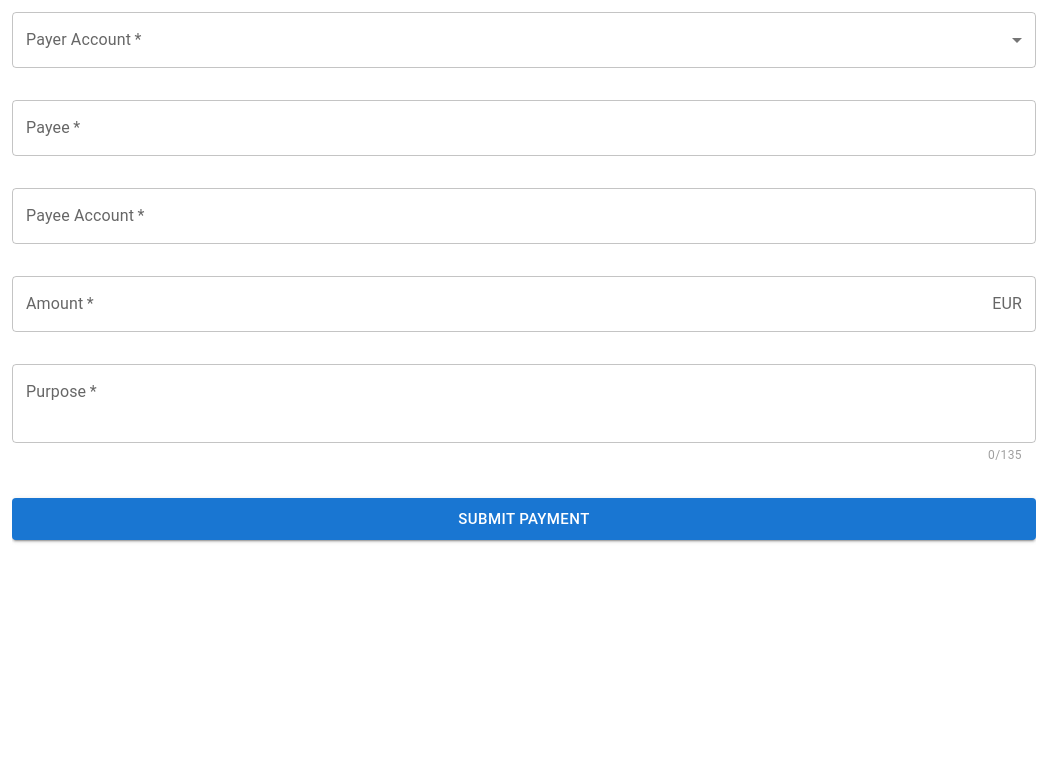
PaymentForm › displays an error when the amount exceeds the selected account balance
The image size is (1048, 780).
Click the dropdown named "payer account". click: (524, 40)
box: top-left (12, 12), bottom-right (1036, 68)
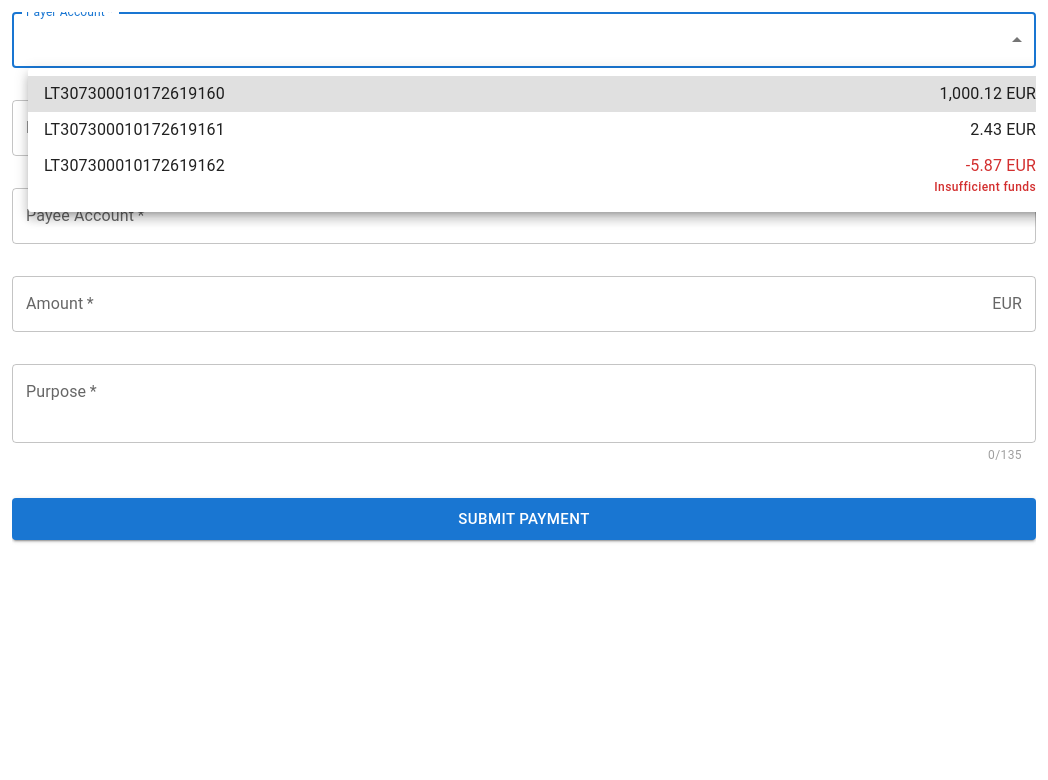
Click the option "LT307300010172619161 2.43 EUR". click: (134, 130)
box: top-left (44, 120), bottom-right (1036, 139)
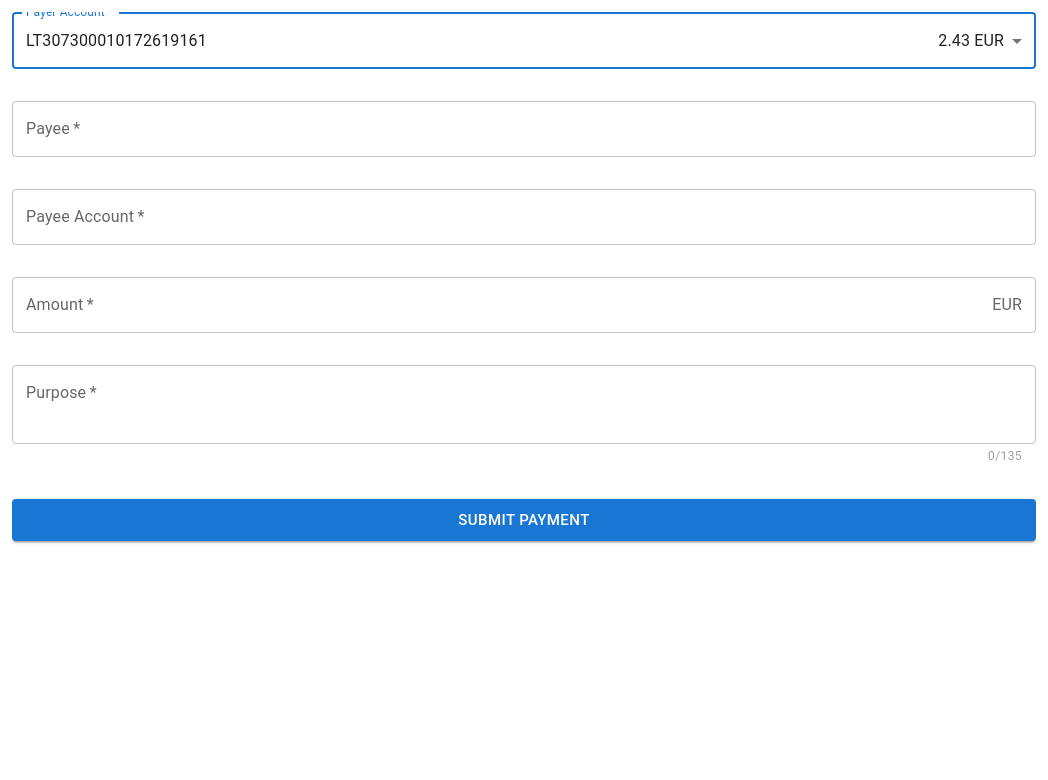
Type "2.44" into the field labelled "Amount *". click: (498, 305)
box: top-left (12, 277), bottom-right (984, 333)
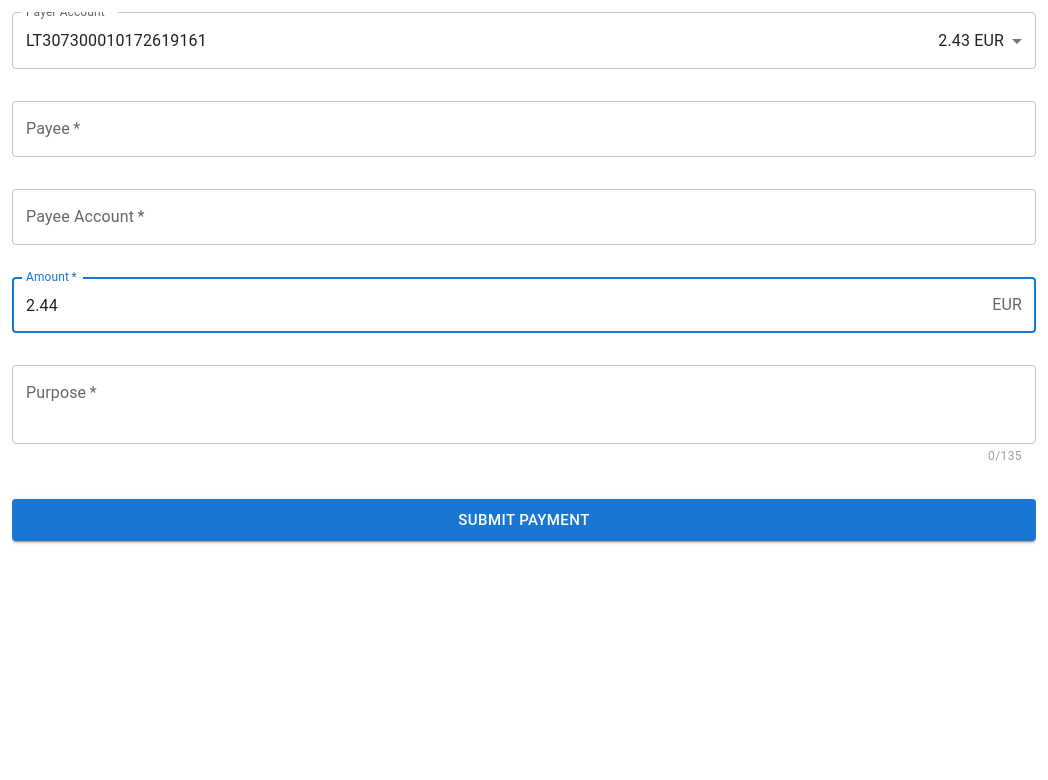
Press Tab
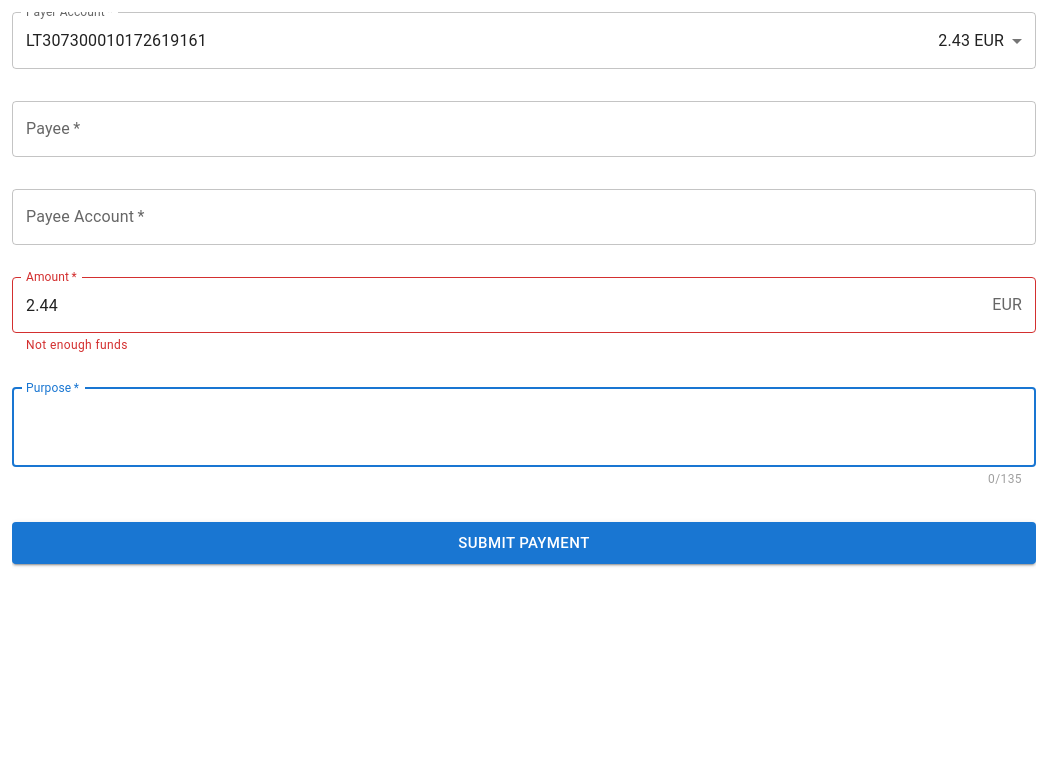
Expected: the text "Not enough funds" is shown, top-left (26, 338), bottom-right (128, 352)
